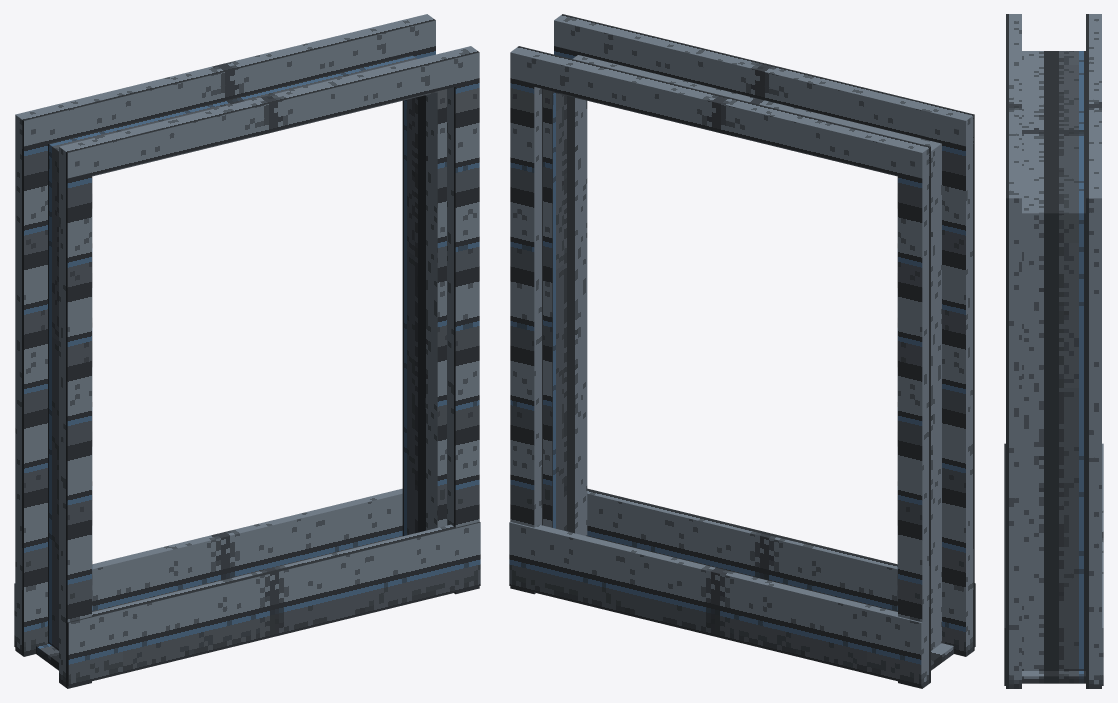
File: door_standard.glb
3 views of the same model, side by side, from view 1: azimuth 30°, elevation 25°; view 2: azimuth 150°, elevation 25°; view 3: azimuth 270°, elevation 25° (orthographic). The views are drawn at different scales.
Visible parts, largest first — view 1: door_standard; view 2: door_standard; view 3: door_standard.
Part boxes in pixels (x1,y1,x2,y2): door_standard: [14, 14, 480, 688]; door_standard: [509, 14, 975, 688]; door_standard: [1004, 14, 1103, 688].
Bounding box in the file's own units: 2.72 × 3.38 × 0.62.
1 material, 1 textured.
